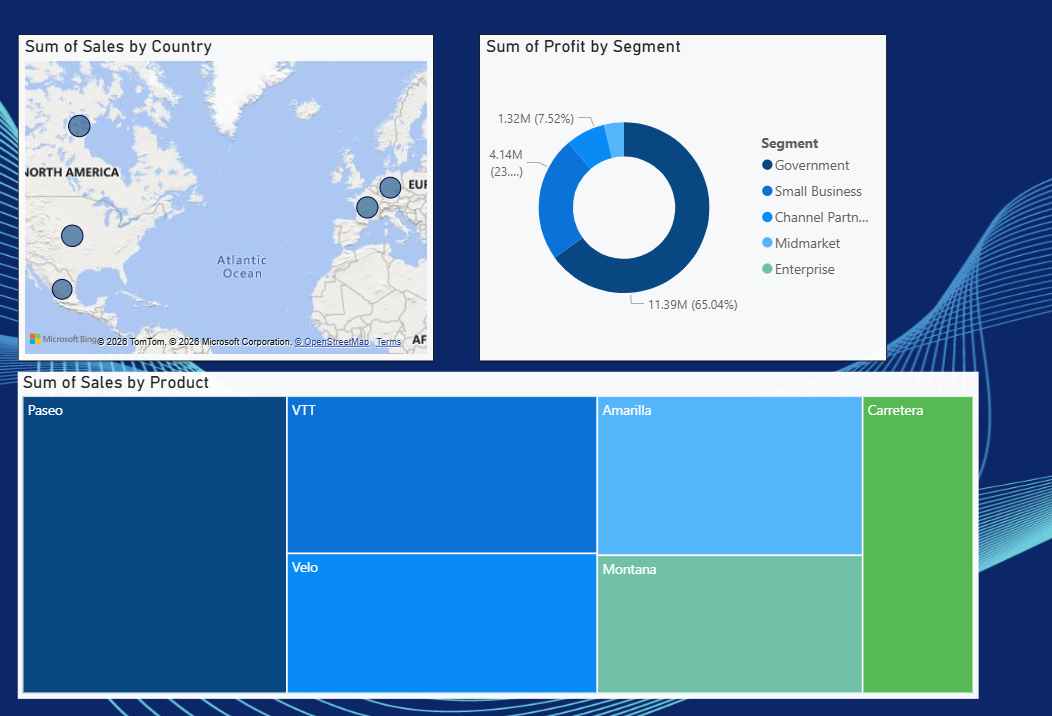

Layout of this report page (visuals, bound fields, positions):
{"tool":"powerbi","page":{"name":"Page 2","canvas":[1280,720],"ordinal":1},"visuals":[{"type":"map","fields":{"Category":["Sheet1.Country"],"Size":["Sum(Sheet1. Sales)"]},"box":[17.8,39.8,407.5,319.7],"z":0},{"type":"donutChart","fields":{"Y":["Sum(Sheet1.Profit)"],"Category":["Sheet1.Segment"]},"box":[469.3,39.8,399.3,319.7],"z":1000},{"type":"treemap","fields":{"Group":["Sheet1.Product"],"Values":["Sum(Sheet1. Sales)"]},"box":[17.8,370.5,940,319.7],"z":2000}]}

Visuals, with their boxes on the page's 1280x720 design canvas (x1, y1, x2, y2). These are canvas units, not pixel positions in the 1052x716 screenshot, which may show the page scaled, cropped or inside an application window:
map - Sheet1.Country x Sum(Sheet1. Sales): 18,40,425,360
donutChart - Sum(Sheet1.Profit) x Sheet1.Segment: 469,40,869,360
treemap - Sheet1.Product x Sum(Sheet1. Sales): 18,370,958,690
